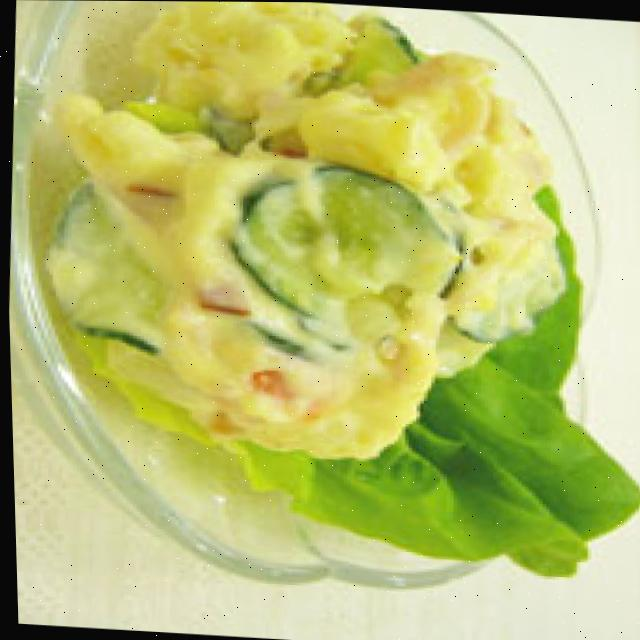蔬菜料理: (0, 0, 640, 604)
